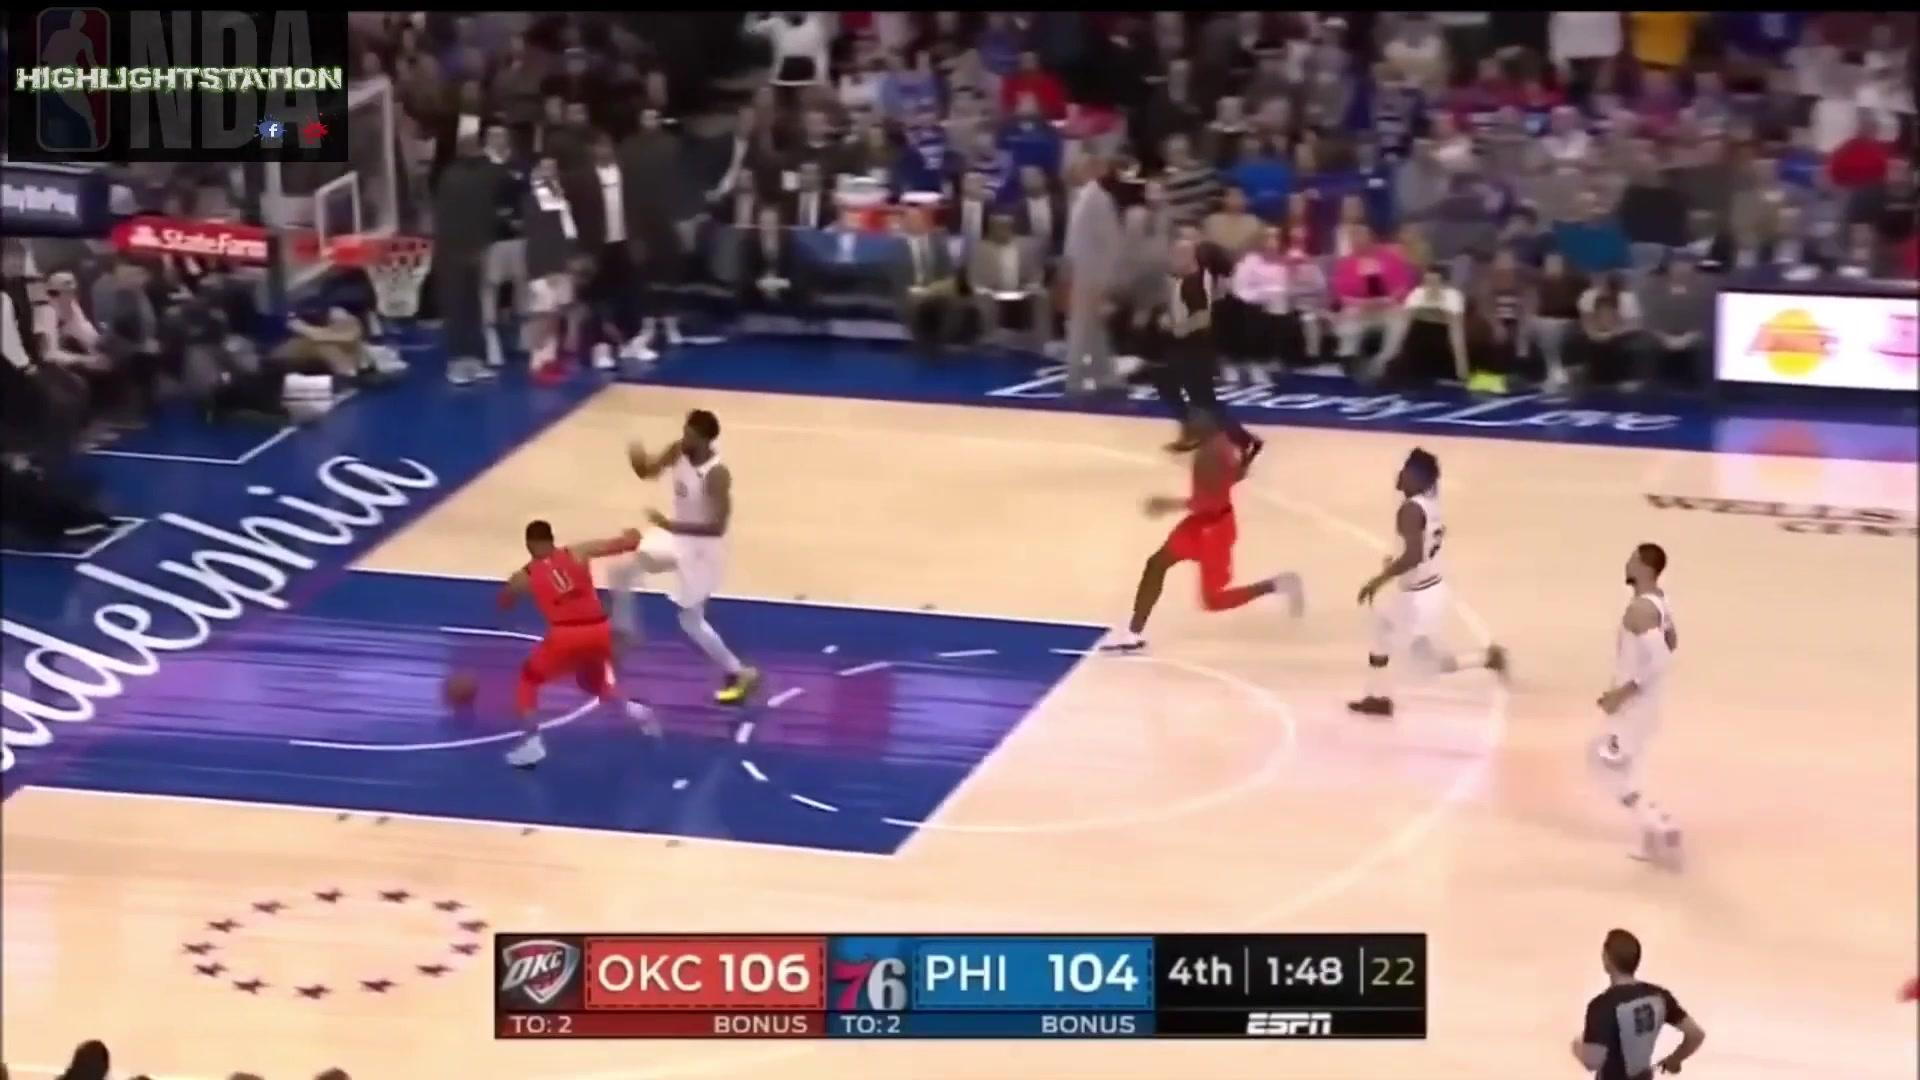no_foul: (471, 390, 771, 765)
